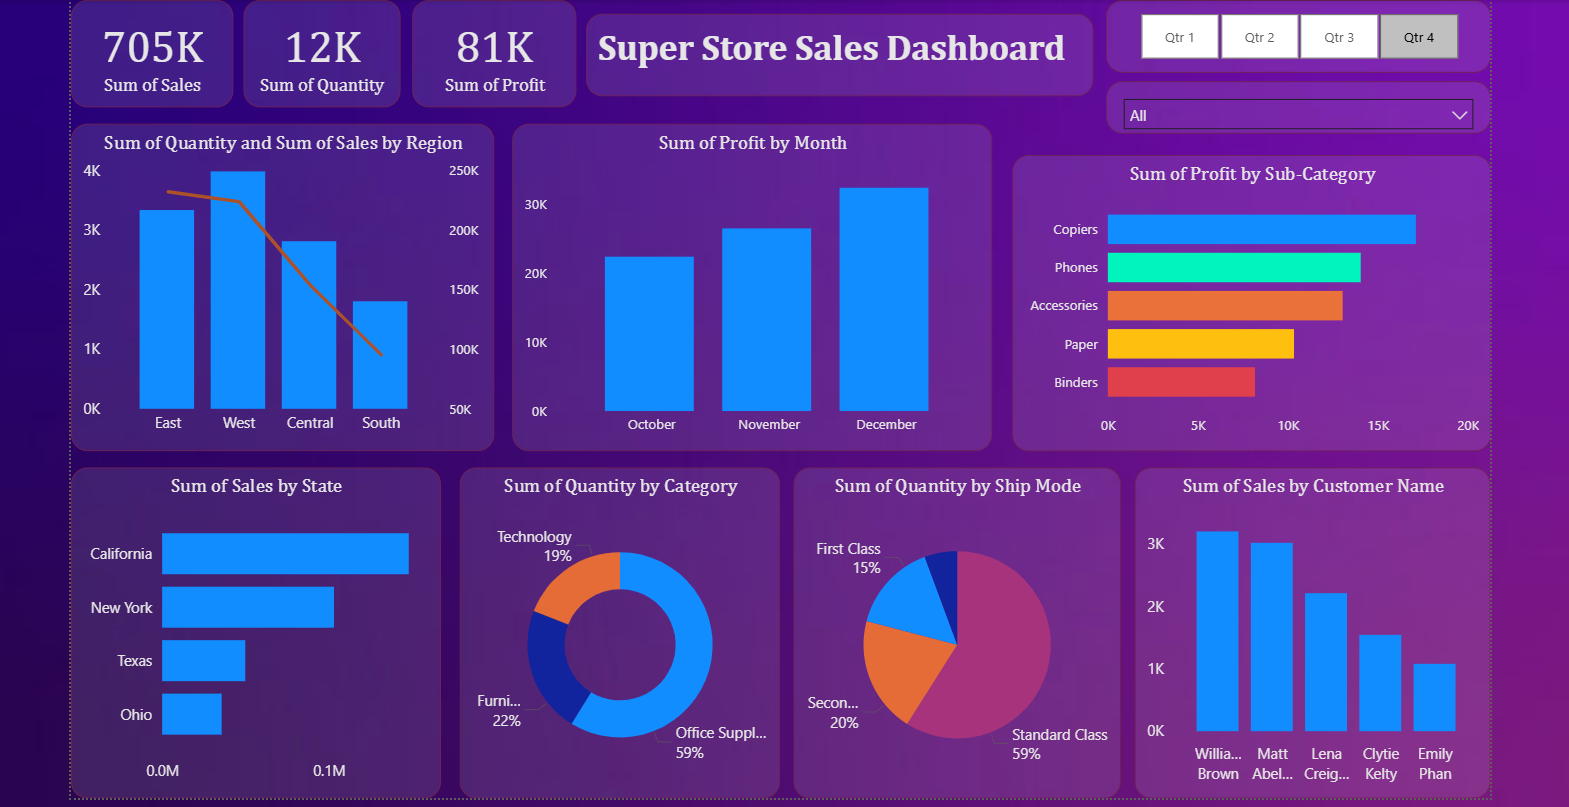

Layout of this report page (visuals, bound fields, positions):
{"tool":"powerbi","page":{"name":"Page 2","canvas":[1280,720],"ordinal":1},"visuals":[{"type":"columnChart","fields":{"Category":["Sample - Superstore.Order Date.Variation.Date Hierarchy.Month"],"Y":["Sum(Sample - Superstore.Profit)"]},"box":[933,134.3,347.1,272.4],"z":0},{"type":"barChart","fields":{"Y":["Sum(Sample - Superstore.Profit)"],"Category":["Sample - Superstore.Sub-Category"]},"box":[426.7,112,495.1,294.8],"z":1000},{"type":"donutChart","fields":{"Y":["Sum(Sample - Superstore.Quantity)"],"Category":["Sample - Superstore.Category"]},"box":[350.8,421.7,288.6,298.6],"z":2000},{"type":"pieChart","fields":{"Y":["Sum(Sample - Superstore.Quantity)"],"Category":["Sample - Superstore.Ship Mode"]},"box":[651.8,421.7,294.8,298.6],"z":3000},{"type":"lineStackedColumnComboChart","fields":{"Category":["Sample - Superstore.Region"],"Y2":["Sum(Sample - Superstore.Sales)"],"Y":["Sum(Sample - Superstore.Quantity)"]},"box":[0,112,416.7,294.8],"z":4000},{"type":"card","fields":{"Values":["Sum(Sample - Superstore.Quantity)"]},"box":[155.5,0,141.8,97],"z":5000},{"type":"card","fields":{"Values":["Sum(Sample - Superstore.Profit)"]},"box":[307.3,0,148,97],"z":6000},{"type":"card","fields":{"Values":["Sum(Sample - Superstore.Sales)"]},"box":[0,0,146.8,97],"z":7000},{"type":"barChart","fields":{"Category":["Sample - Superstore.State"],"Y":["Sum(Sample - Superstore.Sales)"]},"box":[0,421.7,333.4,298.6],"z":8000},{"type":"columnChart","fields":{"Y":["Sum(Sample - Superstore.Sales)"],"Category":["Sample - Superstore.Customer Name"]},"box":[959.1,421.7,320.9,298.6],"z":9000},{"type":"textbox","box":[464,12.4,457.8,74.6],"z":10000},{"type":"slicer","fields":{"Values":["Sample - Superstore.Order Date.Variation.Date Hierarchy.Quarter"]},"box":[933,0,347.1,65.9],"z":11000},{"type":"slicer","fields":{"Values":["Sample - Superstore.State"]},"box":[933,73.4,347.1,47.3],"z":12000}]}

Visuals, with their boxes on the page's 1280x720 design canvas (x1, y1, x2, y2). These are canvas units, not pixel positions in the 1569x807 screenshot, which may show the page scaled, cropped or inside an application window:
columnChart - Sample - Superstore.Order Date.Variation.Date Hierarchy.Month x Sum(Sample - Superstore.Profit): x1=933, y1=134, x2=1280, y2=407
barChart - Sum(Sample - Superstore.Profit) x Sample - Superstore.Sub-Category: x1=427, y1=112, x2=922, y2=407
donutChart - Sum(Sample - Superstore.Quantity) x Sample - Superstore.Category: x1=351, y1=422, x2=639, y2=720
pieChart - Sum(Sample - Superstore.Quantity) x Sample - Superstore.Ship Mode: x1=652, y1=422, x2=947, y2=720
lineStackedColumnComboChart - Sample - Superstore.Region x Sum(Sample - Superstore.Sales): x1=0, y1=112, x2=417, y2=407
card - Sum(Sample - Superstore.Quantity): x1=156, y1=0, x2=297, y2=97
card - Sum(Sample - Superstore.Profit): x1=307, y1=0, x2=455, y2=97
card - Sum(Sample - Superstore.Sales): x1=0, y1=0, x2=147, y2=97
barChart - Sample - Superstore.State x Sum(Sample - Superstore.Sales): x1=0, y1=422, x2=333, y2=720
columnChart - Sum(Sample - Superstore.Sales) x Sample - Superstore.Customer Name: x1=959, y1=422, x2=1280, y2=720
textbox: x1=464, y1=12, x2=922, y2=87
slicer - Sample - Superstore.Order Date.Variation.Date Hierarchy.Quarter: x1=933, y1=0, x2=1280, y2=66
slicer - Sample - Superstore.State: x1=933, y1=73, x2=1280, y2=121
